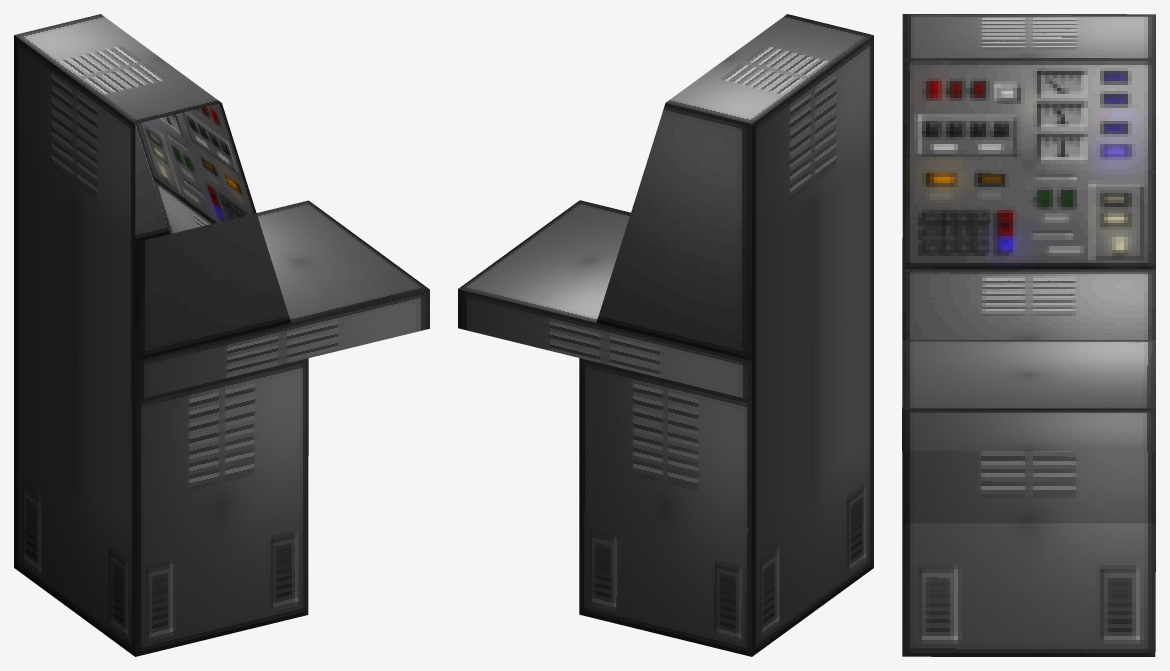
Rendered from primary_103.glb.
The picture shows the model from 3 angles, left to right: view 1: azimuth 30°, elevation 25°; view 2: azimuth 150°, elevation 25°; view 3: azimuth 270°, elevation 25°; orthographic projection. The views are drawn at different scales.
Parts seen in each view (by area): view 1: Object; view 2: Object; view 3: Object.
Part boxes in pixels (x1,y1,x2,y2): Object: (14,14,429,656); Object: (458,14,873,656); Object: (902,14,1155,656).
Size of the model in its own units: 1.03 by 1.78 by 0.7377.
Materials: 21 (21 with a texture image).
